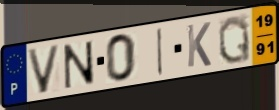0: (104, 32, 140, 84)
I: (156, 26, 164, 78)
K: (185, 20, 213, 70)
N: (62, 39, 97, 91)
Q: (217, 14, 252, 65)
V: (25, 43, 62, 96)
